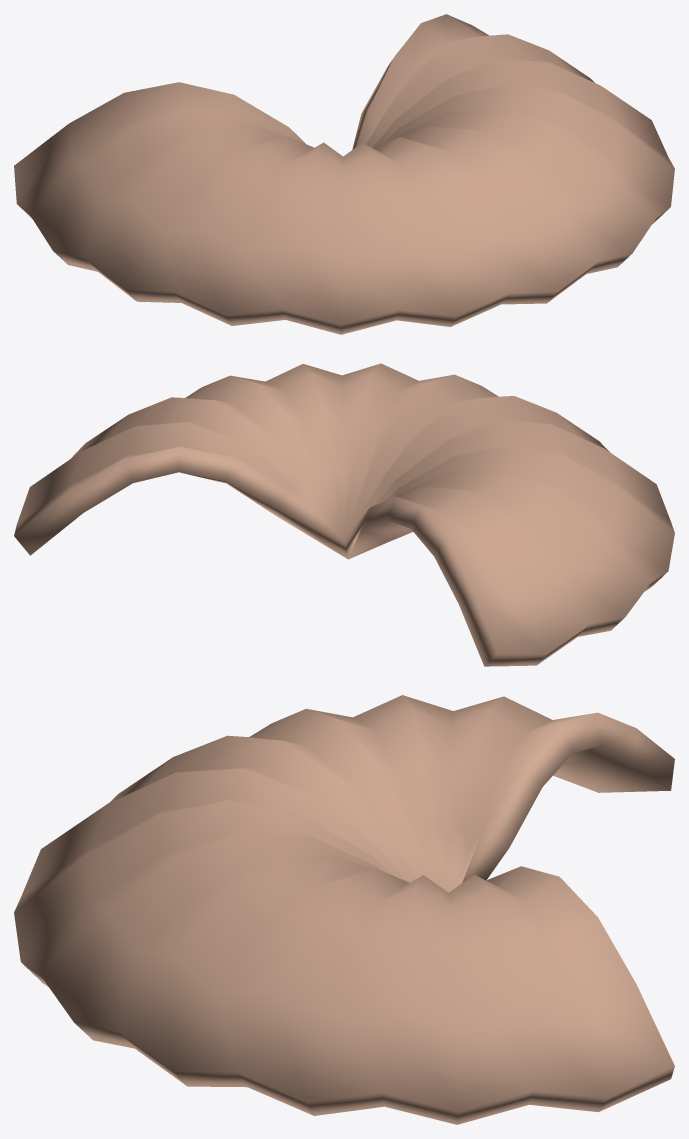
The model's file is reef_shell.glb.
The picture shows the model from 3 angles, top to bottom: view 1: azimuth 30°, elevation 25°; view 2: azimuth 150°, elevation 25°; view 3: azimuth 270°, elevation 25°; orthographic projection. The views are drawn at different scales.
Parts seen in each view (by area): view 1: reef_shell_painted_mesh; view 2: reef_shell_painted_mesh; view 3: reef_shell_painted_mesh.
Part boxes in pixels (x1,y1,x2,y2): reef_shell_painted_mesh: (14,14,674,334); reef_shell_painted_mesh: (14,363,674,666); reef_shell_painted_mesh: (14,695,674,1124).
Bounding box in the file's own units: 0.8996 × 0.1784 × 0.6911.
